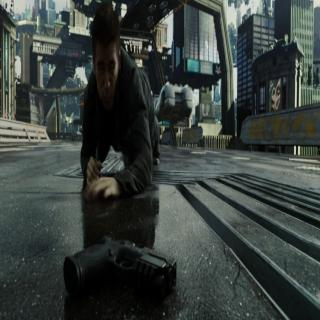gun: (62, 211, 181, 306)
